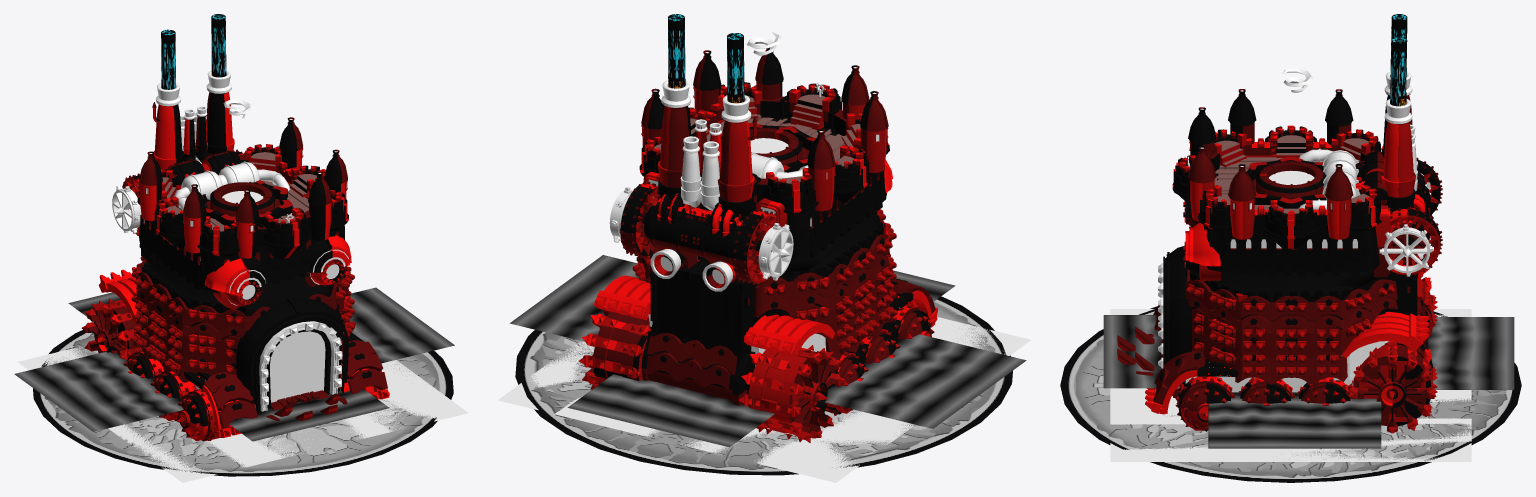
The model's file is SM_Fort_Tier3_01_raw.glb.
3 views of the same model, side by side, from view 1: azimuth 30°, elevation 25°; view 2: azimuth 150°, elevation 25°; view 3: azimuth 270°, elevation 25° (orthographic). The views are drawn at different scales.
Visible parts, largest first — view 1: Cube.202, Cube.205, fake_Crater (×2), VFX_Slow, VFX_SuctionEffect (3), Upgrade_Armor_1, VARIANT_Upgrade_Armor_2 (×3), Engine, VARIANT_Upgarde_Armor_0, VFX_SuctionEffect (1), VFX_SuctionEffect, Wanderburg_Models_tf_Wheel_T3_001 (+8 smaller); view 2: Cube.202, Cube.205, fake_Crater (×2), Engine, Wanderburg_Models_tf_Wheel_T3_001 (×2), VFX_SuctionEffect (3), VFX_Slow, VFX_SuctionEffect (2), VARIANT_Upgrade_Armor_2 (×4), VARIANT_Upgrade_Speed_1, VFX_SuctionEffect (1), VARIANT_Upgarde_Armor_0 (+8 smaller); view 3: Cube.205, Cube.202, fake_Crater (×2), VFX_SuctionEffect (1), VFX_Slow, VARIANT_Upgrade_Armor_2 (×4), VFX_SuctionEffect (2), Wanderburg_Models_tf_Wheel_T3_001 (×2), VARIANT_Upgarde_Armor_0, Engine, Upgrade_Armor_1, VFX_SuctionEffect (+7 smaller).
Boxes of the visible parts, x1,y1,x2,y2 form: Cube.202: (98,248,389,437); Cube.205: (139,117,347,309); fake_Crater (×2): (33,329,453,476); VFX_Slow: (17,347,468,482); VFX_SuctionEffect (3): (14,351,183,431); Upgrade_Armor_1: (204,235,351,413); VARIANT_Upgrade_Armor_2 (×3): (137,144,348,441); Engine: (152,91,240,189); VARIANT_Upgarde_Armor_0: (130,256,355,373); VFX_SuctionEffect (1): (350,287,454,363); VFX_SuctionEffect: (229,388,389,441); Wanderburg_Models_tf_Wheel_T3_001: (81,298,141,359); Cube.202: (594,209,937,405); Cube.205: (641,45,888,269); fake_Crater (×2): (515,296,1012,475); Engine: (644,104,760,288); Wanderburg_Models_tf_Wheel_T3_001 (×2): (579,309,845,442); VFX_SuctionEffect (3): (818,334,1026,428); VFX_Slow: (498,317,1030,482); VFX_SuctionEffect (2): (567,374,774,447); VARIANT_Upgrade_Armor_2 (×4): (639,82,934,413); VARIANT_Upgrade_Speed_1: (650,80,751,291); VFX_SuctionEffect (1): (509,255,638,341); VARIANT_Upgarde_Armor_0: (632,209,897,353); Cube.205: (1179,89,1390,281); Cube.202: (1117,248,1433,414); fake_Crater (×2): (1060,306,1521,482); VFX_SuctionEffect (1): (1208,392,1381,448); VFX_Slow: (1110,309,1471,461); VARIANT_Upgrade_Armor_2 (×4): (1172,125,1381,431); VFX_SuctionEffect (2): (1427,317,1514,389); Wanderburg_Models_tf_Wheel_T3_001 (×2): (1347,277,1437,433); VARIANT_Upgarde_Armor_0: (1186,283,1394,376); Engine: (1355,94,1430,263); Upgrade_Armor_1: (1163,202,1220,368); VFX_SuctionEffect: (1103,315,1179,388).
Bounding box in the file's own units: 59.38 × 51.66 × 58.89.
21 materials, 13 textured.
